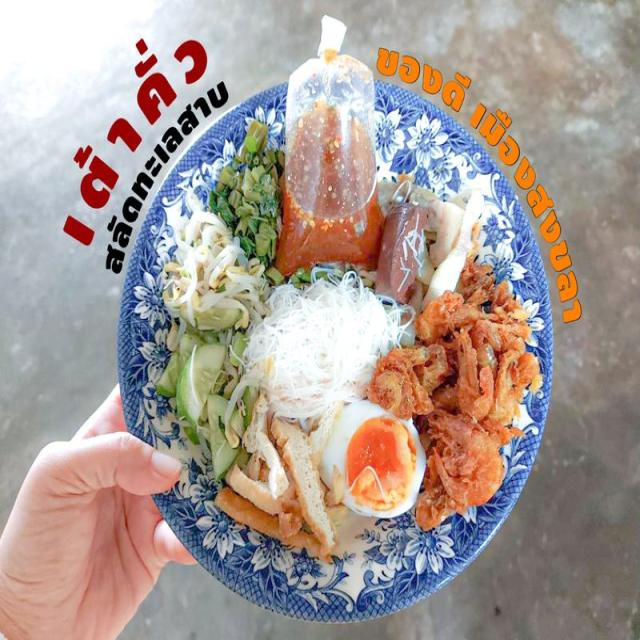Carbohydrate: (238, 264, 412, 396)
Protein: (368, 176, 540, 528), (216, 397, 426, 560)
Taokua: (112, 17, 553, 620)
Vegetable: (144, 106, 281, 475)
